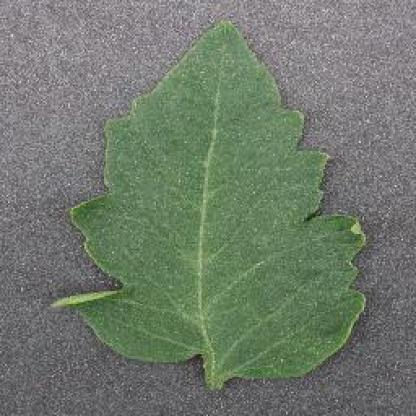good leaf: (26, 5, 390, 382)
